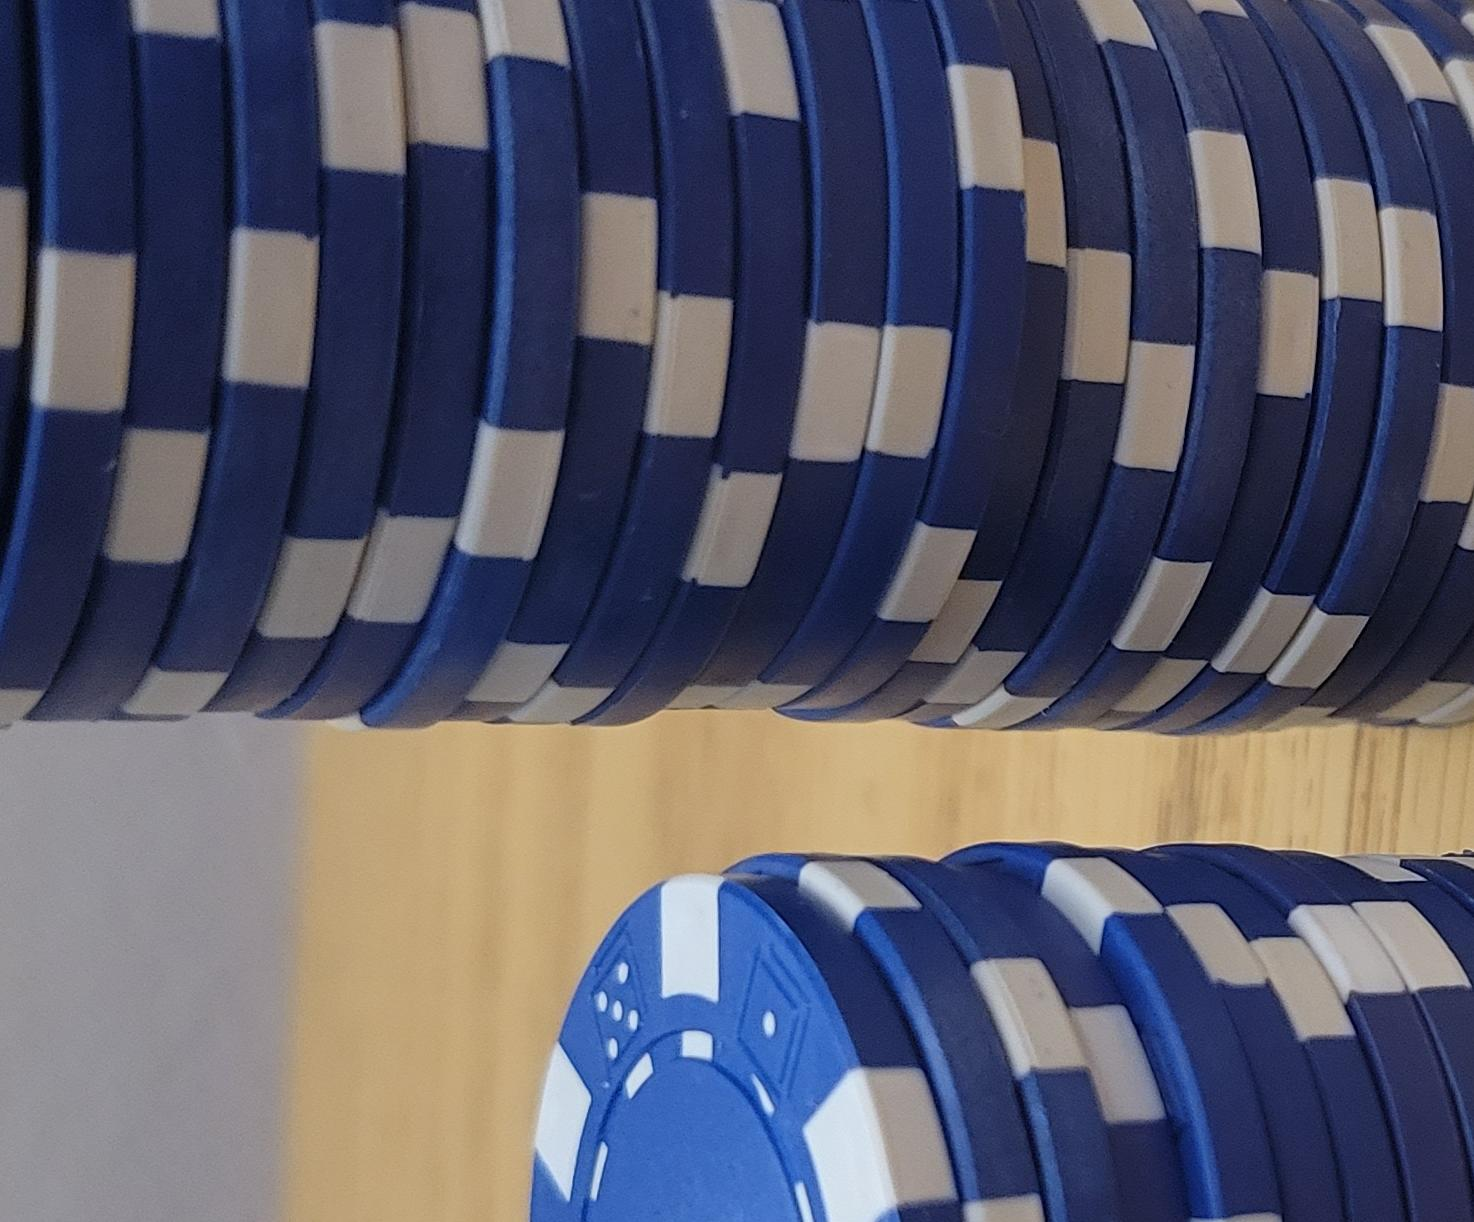Chip: (1, 236, 966, 1222)
